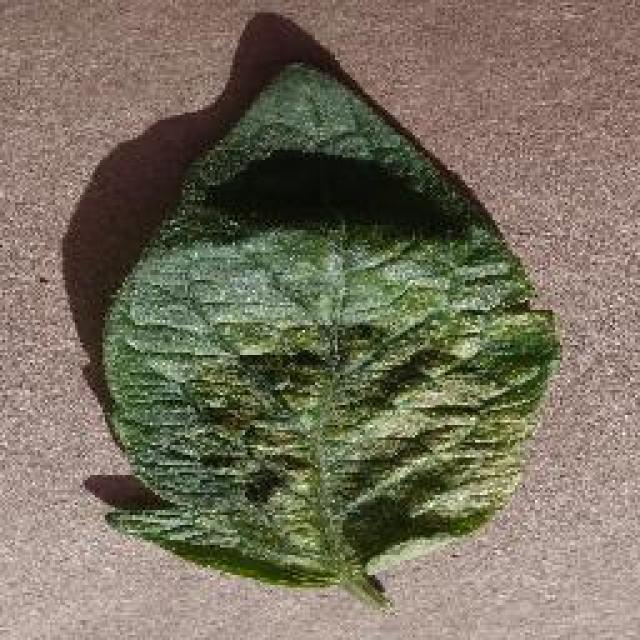Tomato___Spider_mites Two-spotted_spider_mite: (102, 62, 558, 605)
